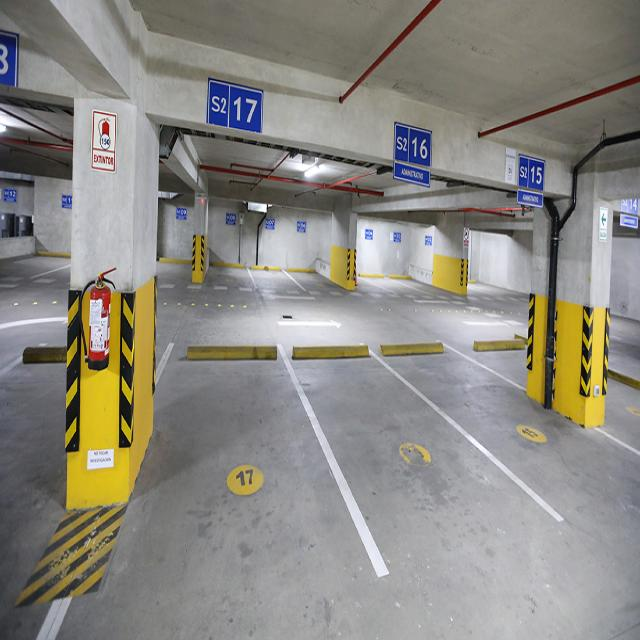libre: (302, 358, 552, 571), (387, 354, 629, 491), (168, 358, 296, 611), (3, 363, 63, 530), (4, 247, 66, 341), (356, 271, 454, 302), (610, 370, 639, 453), (483, 347, 529, 398), (469, 279, 522, 312), (252, 271, 302, 296), (296, 273, 349, 296), (208, 267, 244, 293)
